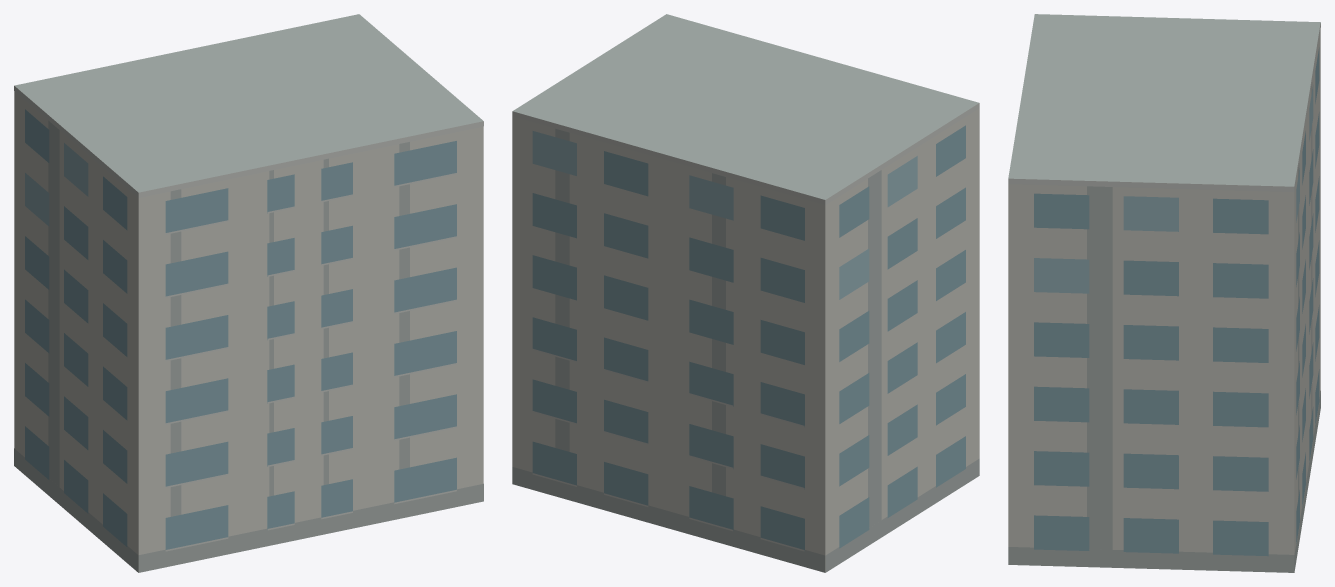
The model's file is survey-upis-33021277.glb.
3 renders of one model, left to right at view 1: azimuth 30°, elevation 25°; view 2: azimuth 150°, elevation 25°; view 3: azimuth 270°, elevation 25°, orthographic. The views are drawn at different scales.
Parts seen in each view (by area): view 1: survey-upis-33021277.tmp; view 2: survey-upis-33021277.tmp; view 3: survey-upis-33021277.tmp.
Boxes of the visible parts, x1,y1,x2,y2 form: survey-upis-33021277.tmp: [14, 14, 483, 572]; survey-upis-33021277.tmp: [512, 14, 979, 572]; survey-upis-33021277.tmp: [1008, 14, 1320, 572].
Size of the model in its own units: 16.6 by 17.3 by 12.7.
